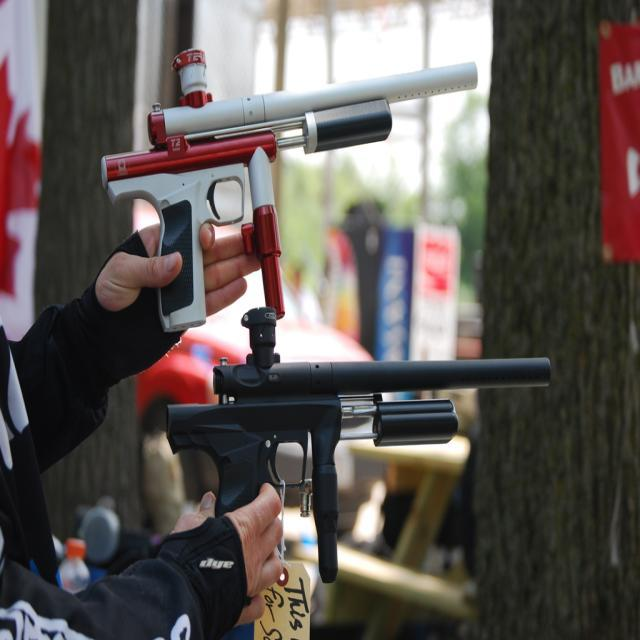Gun: (101, 52, 478, 331), (169, 308, 551, 581)
